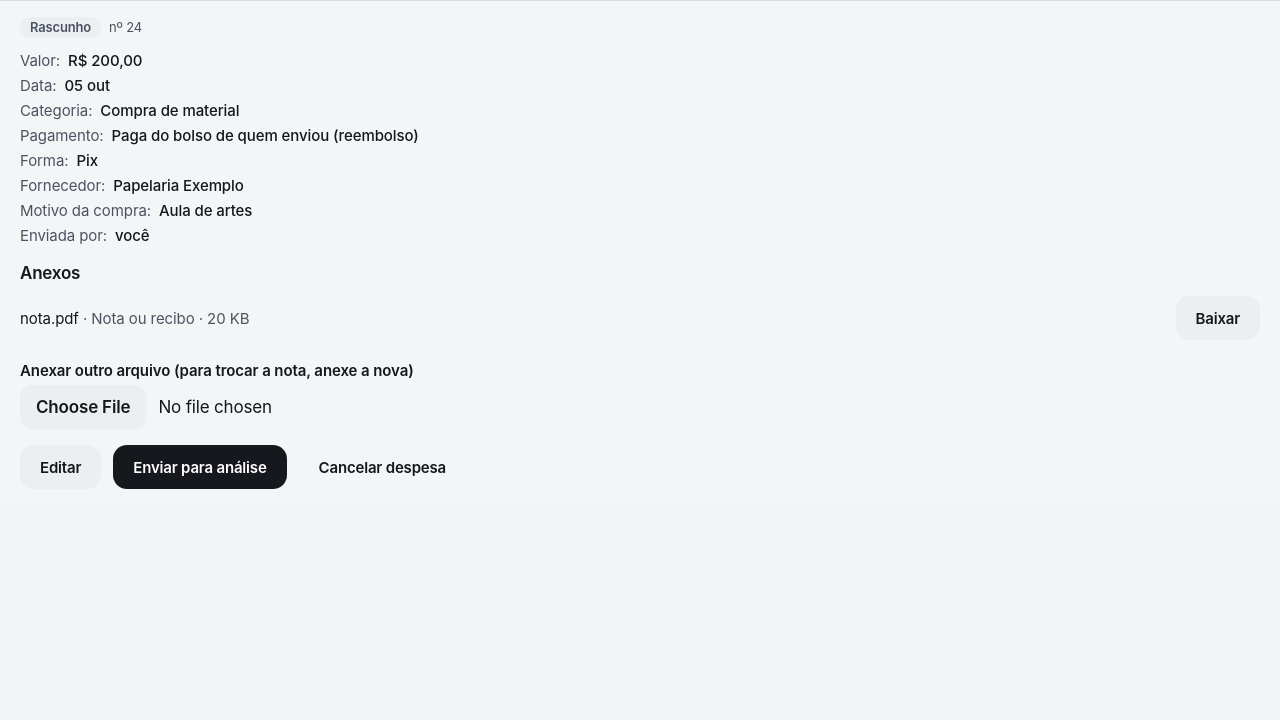
Test: professora (autora) › envio incompleto (422): diz o que falta; 409: recarrega o detalhe
The width and height of the screenshot is (1280, 720).
Click the button "Enviar para análise".
click(200, 467)  # box [113,445,287,489]
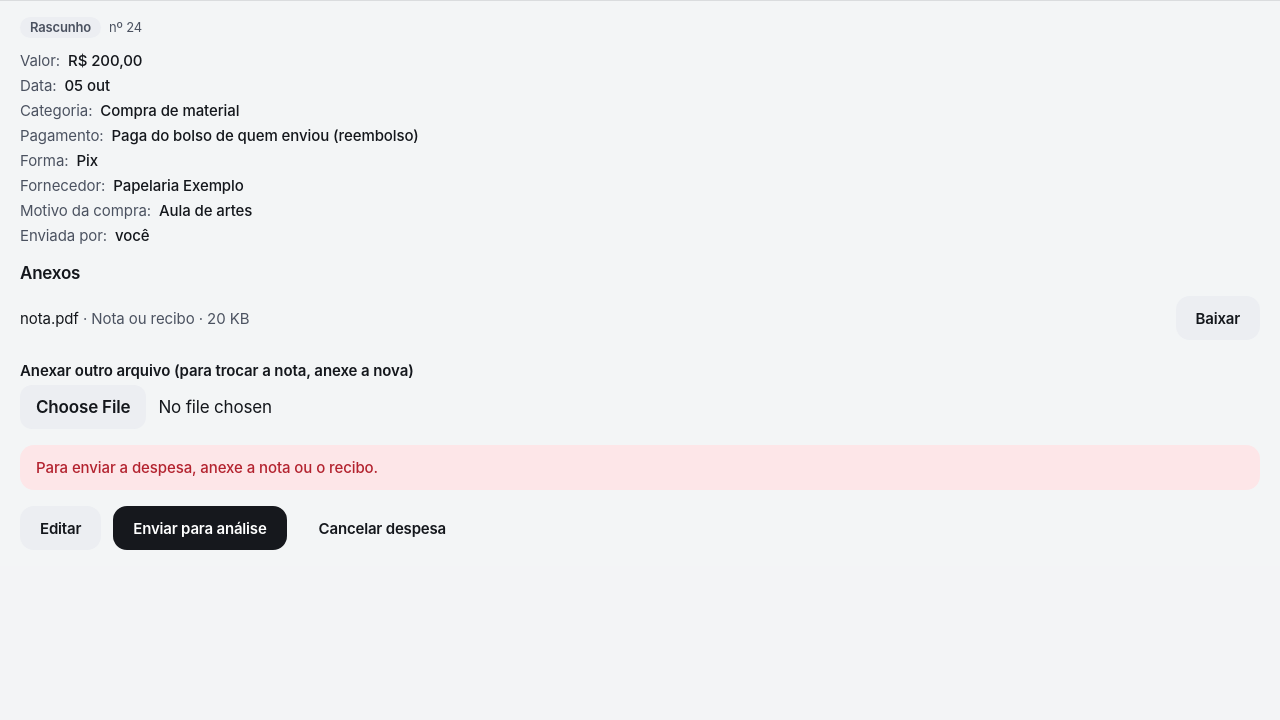
Expected: the message reads "Para enviar a despesa, anexe a nota ou o recibo.", [36,458,378,477]
Click the button "Enviar para análise".
click(200, 528)  # box [113,506,287,550]
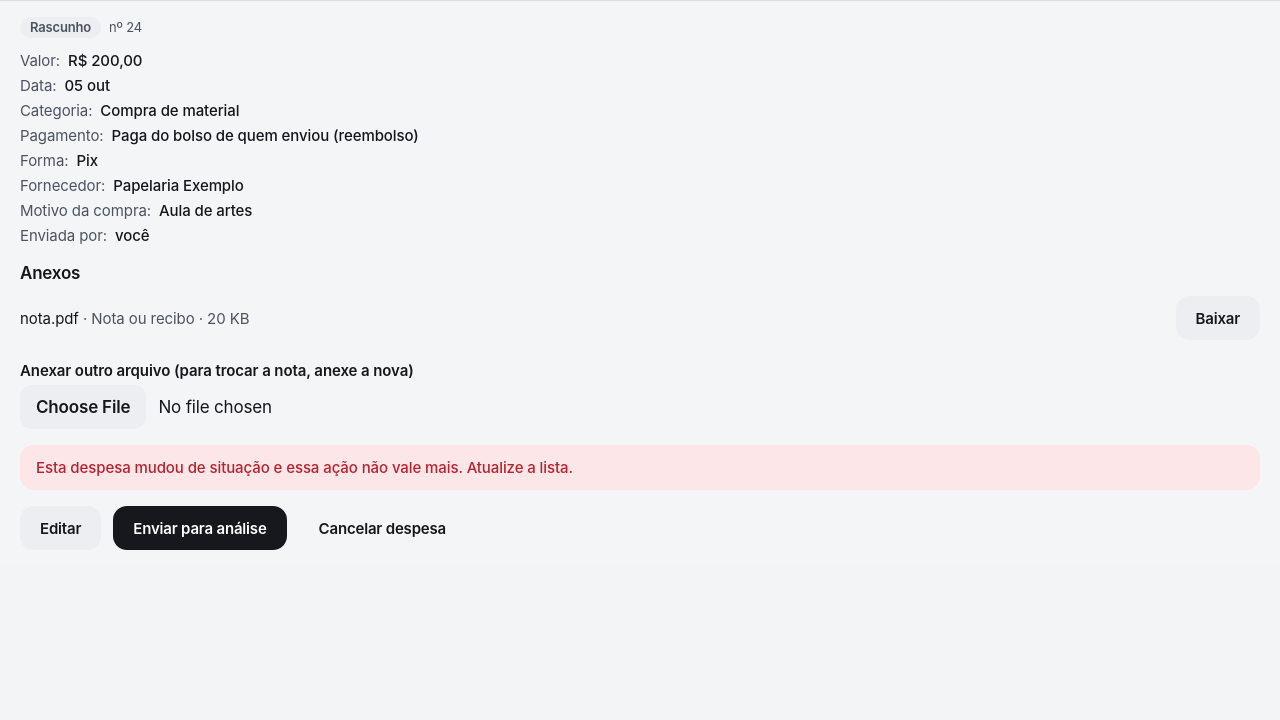
Expected: the text "Esta despesa mudou de situação e essa ação não vale mais. Atualize a lista." is shown, [20,445,1260,490]
